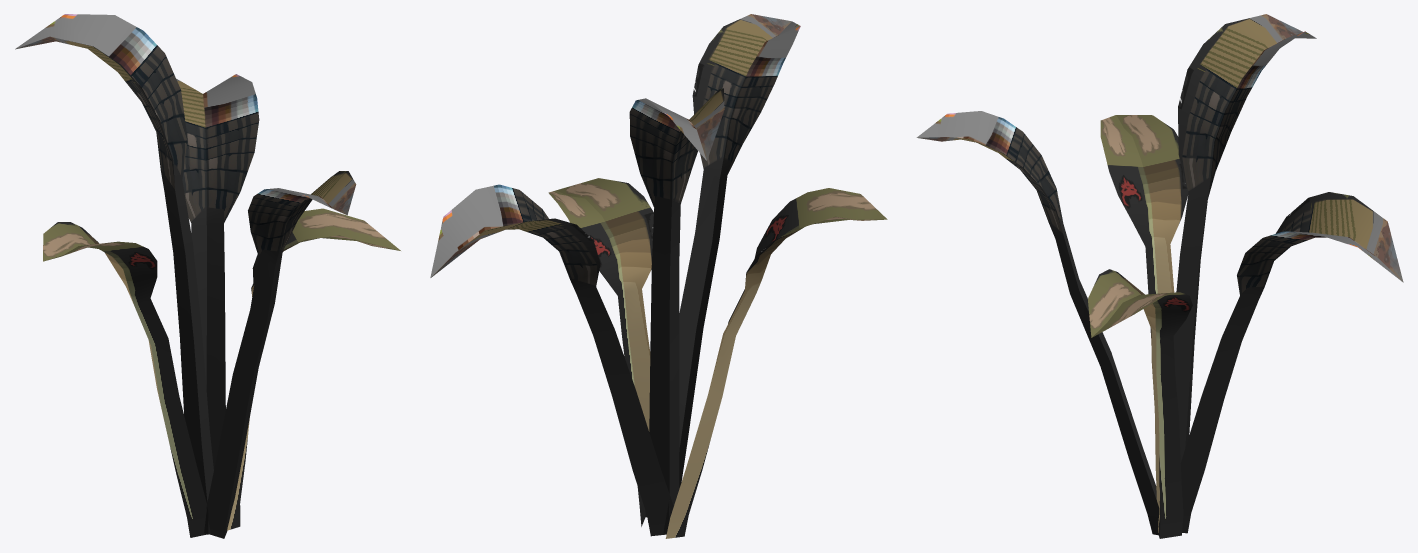
The model's file is jungle_SM_Env_Fern_04.gltf.
3 renders of one model, left to right at view 1: azimuth 30°, elevation 25°; view 2: azimuth 150°, elevation 25°; view 3: azimuth 270°, elevation 25°, orthographic. The views are drawn at different scales.
Visible parts, largest first — view 1: SM_Env_Fern_04_LOD0; view 2: SM_Env_Fern_04_LOD0; view 3: SM_Env_Fern_04_LOD0.
Boxes of the visible parts, bbox=[...] form: SM_Env_Fern_04_LOD0: bbox=[15, 14, 400, 538]; SM_Env_Fern_04_LOD0: bbox=[430, 14, 887, 538]; SM_Env_Fern_04_LOD0: bbox=[916, 14, 1403, 538].
Size of what is drawn, in the model's own units: 2.39 by 3.22 by 3.05.
1 material, 1 textured.
